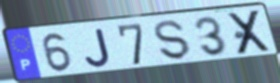3: (194, 14, 227, 58)
6: (40, 31, 74, 73)
7: (116, 22, 145, 66)
J: (83, 27, 113, 69)
S: (153, 19, 193, 62)
X: (226, 8, 274, 57)
